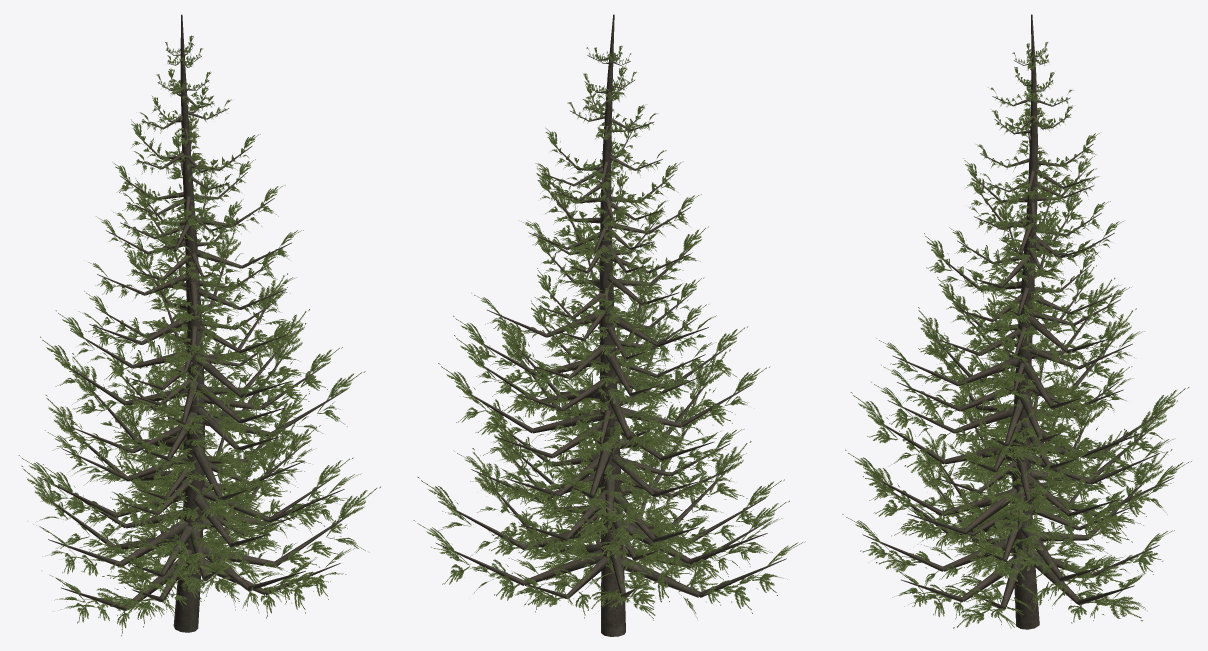
Rendered from tree.glb.
3 views of the same model, side by side, from view 1: azimuth 30°, elevation 25°; view 2: azimuth 150°, elevation 25°; view 3: azimuth 270°, elevation 25° (orthographic).
Size of the model in its own units: 4.89 by 8.41 by 4.42.
2 materials, 2 textured.
